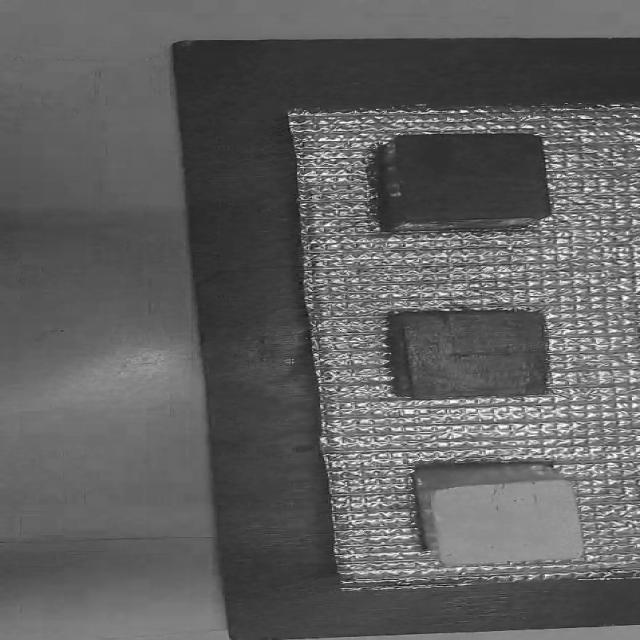bcube: (372, 304, 559, 406)
rcube: (357, 130, 560, 237)
ycube: (400, 457, 604, 574)
